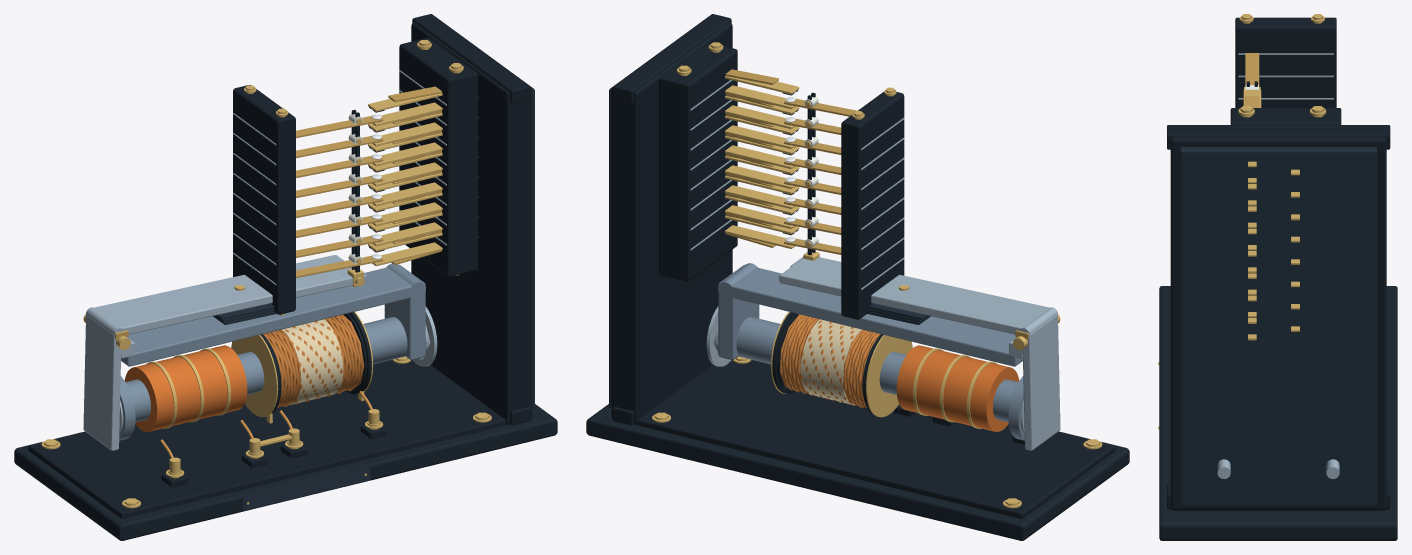
The model's file is JWXC-H340-dropped.glb.
The picture shows the model from 3 angles, left to right: view 1: azimuth 30°, elevation 25°; view 2: azimuth 150°, elevation 25°; view 3: azimuth 270°, elevation 25°; orthographic projection. The views are drawn at different scales.
Parts seen in each view (by area): view 1: base (×6), contactBlock (×2), armature (×2), yoke (×2), coil (×3), copperSleeve, back (×8), core, pole; view 2: base (×5), contactBlock (×2), armature (×2), yoke (×2), coil (×3), copperSleeve, core, pole, back; view 3: base (×4), contactBlock (×2), common.
Boxes of the visible parts, bbox=[...] form: base (×6): bbox=[14, 14, 557, 540]; contactBlock (×2): bbox=[233, 38, 477, 314]; armature (×2): bbox=[83, 255, 364, 450]; yoke (×2): bbox=[121, 264, 425, 366]; coil (×3): bbox=[231, 314, 364, 417]; copperSleeve: bbox=[124, 345, 247, 431]; back (×8): bbox=[372, 102, 442, 266]; core: bbox=[125, 317, 407, 422]; pole: bbox=[119, 376, 135, 440]; base (×5): bbox=[586, 14, 1129, 540]; contactBlock (×2): bbox=[659, 42, 904, 319]; armature (×2): bbox=[779, 257, 1060, 450]; yoke (×2): bbox=[718, 264, 1022, 366]; coil (×3): bbox=[780, 314, 912, 417]; copperSleeve: bbox=[896, 345, 1019, 431]; core: bbox=[736, 317, 1018, 422]; pole: bbox=[1008, 376, 1024, 440]; back: bbox=[725, 225, 795, 248]; base (×4): bbox=[1159, 125, 1397, 540]; contactBlock (×2): bbox=[1230, 17, 1341, 124]; common: bbox=[1245, 53, 1259, 86].
Bounding box in the file's own units: 6.05 × 4.73 × 2.55.
